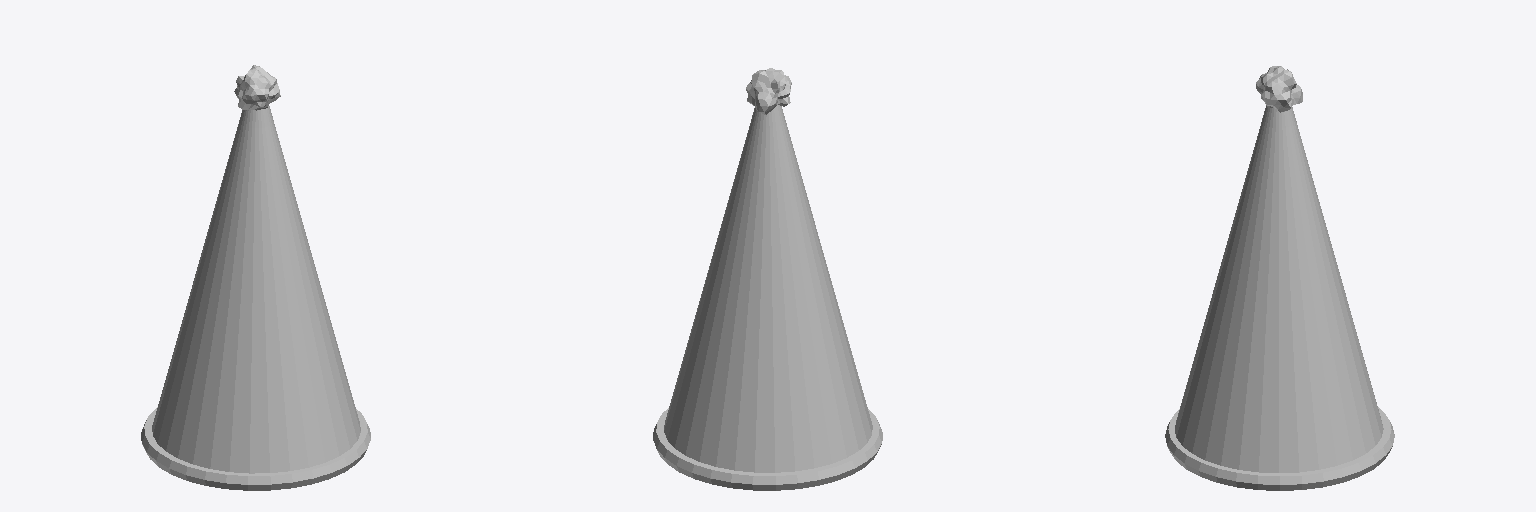
File: party_hat.obj
3 views of the same model, side by side, from view 1: azimuth 30°, elevation 25°; view 2: azimuth 150°, elevation 25°; view 3: azimuth 270°, elevation 25° (orthographic).
Visible parts, largest first — view 1: Cylinder.002_Cylinder.005, Cylinder.002_Cylinder.001; view 2: Cylinder.002_Cylinder.005, Cylinder.002_Cylinder.001; view 3: Cylinder.002_Cylinder.005, Cylinder.002_Cylinder.001.
Part boxes in pixels (bbox=[...]): Cylinder.002_Cylinder.005: bbox=[141, 106, 370, 490]; Cylinder.002_Cylinder.001: bbox=[234, 65, 280, 110]; Cylinder.002_Cylinder.005: bbox=[653, 105, 882, 490]; Cylinder.002_Cylinder.001: bbox=[746, 68, 791, 114]; Cylinder.002_Cylinder.005: bbox=[1165, 106, 1394, 490]; Cylinder.002_Cylinder.001: bbox=[1256, 66, 1302, 112].
Size of the model in its own units: 0.2067 by 0.3709 by 0.2059.